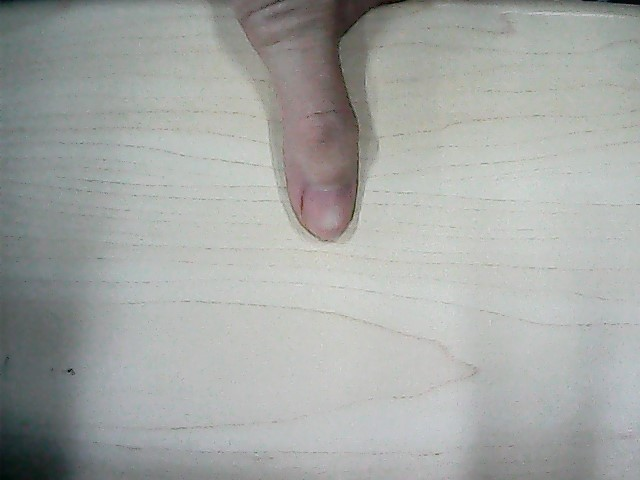nail: (302, 187, 353, 243)
